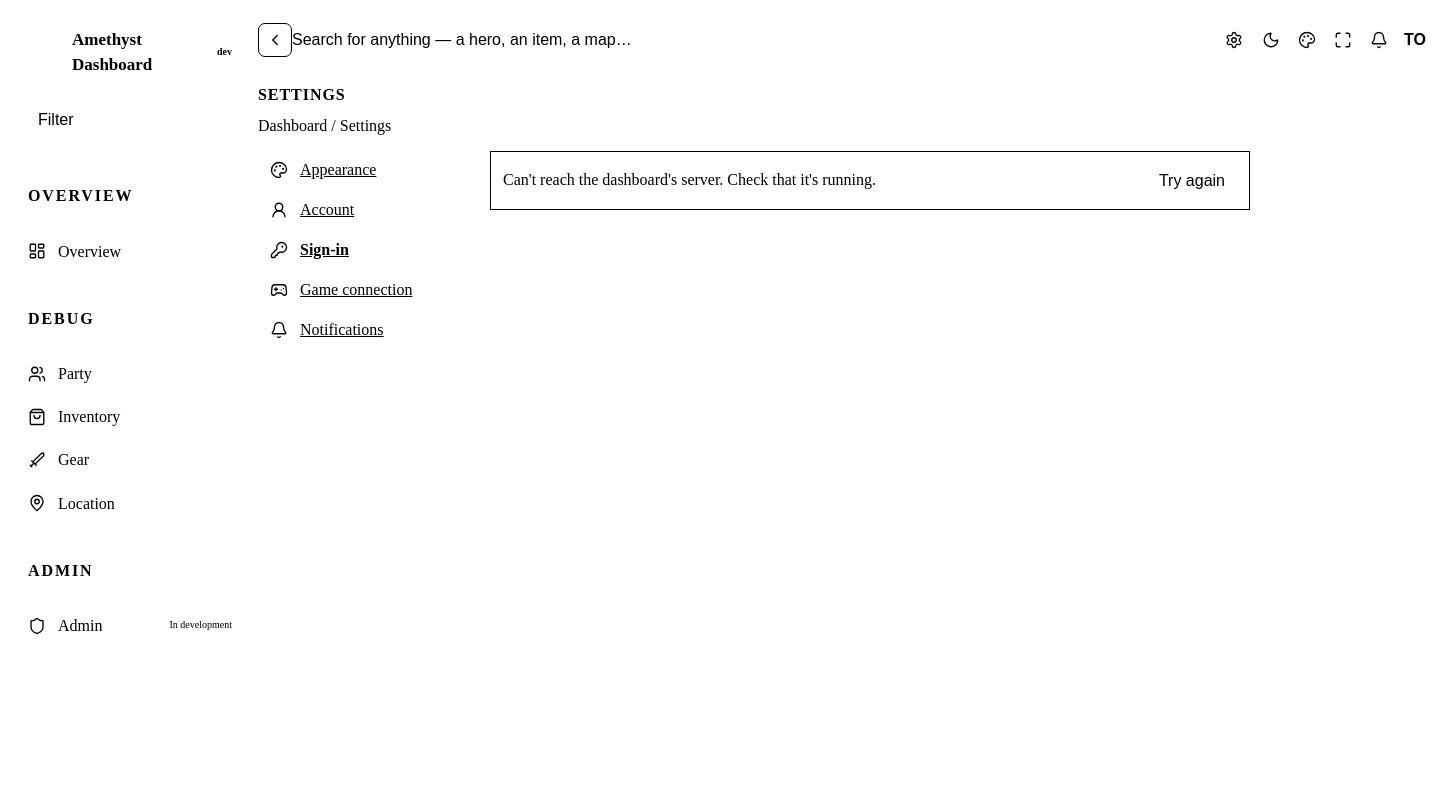
Test: when the settings aren't in yet › if they can't be had it says why, and Try again asks once more
Expected: the message shows "Can't reach the dashboard's server.", x1=503 y1=171 x2=876 y2=188
Click the button "Try again" at x=1192, y=180, box x1=1147 y1=162 x2=1237 y2=199
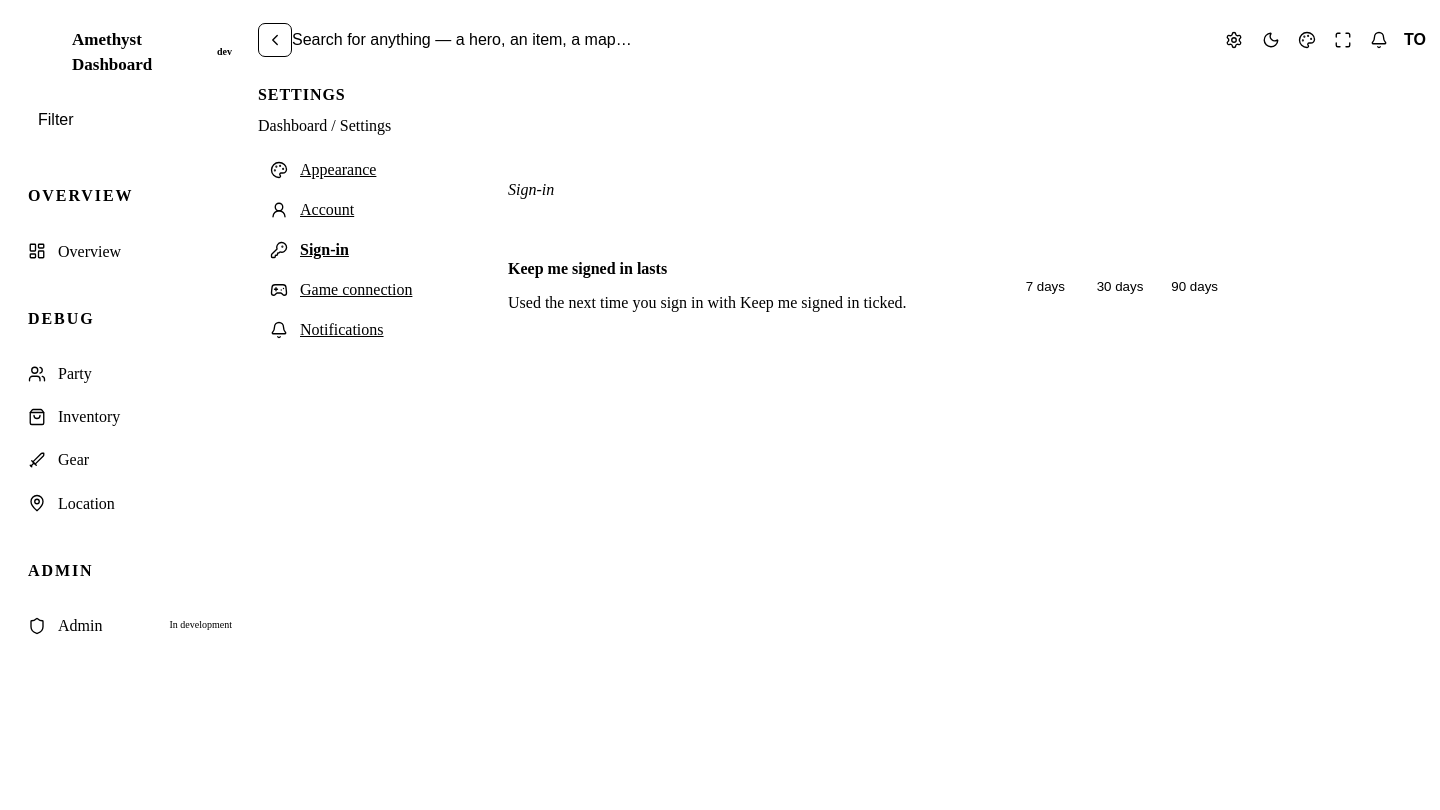
Expected: the radio button labelled "30 days" is shown, x1=1083 y1=270 x2=1157 y2=303
